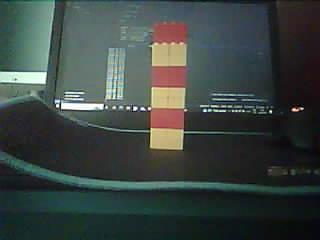lego: (149, 21, 187, 151)
